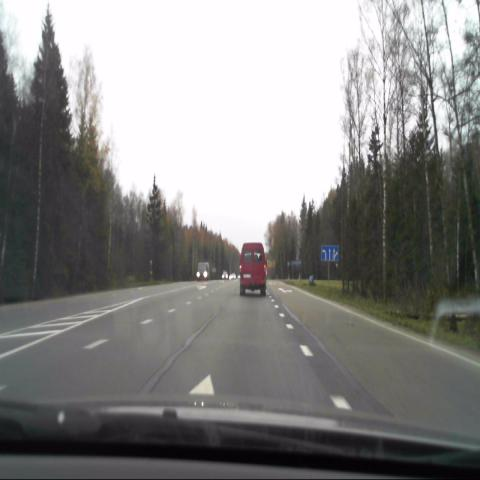5_15_1: (320, 244, 340, 260)
